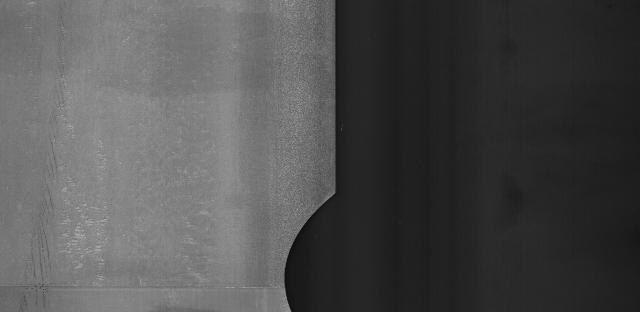welding_line: (3, 276, 301, 300)
